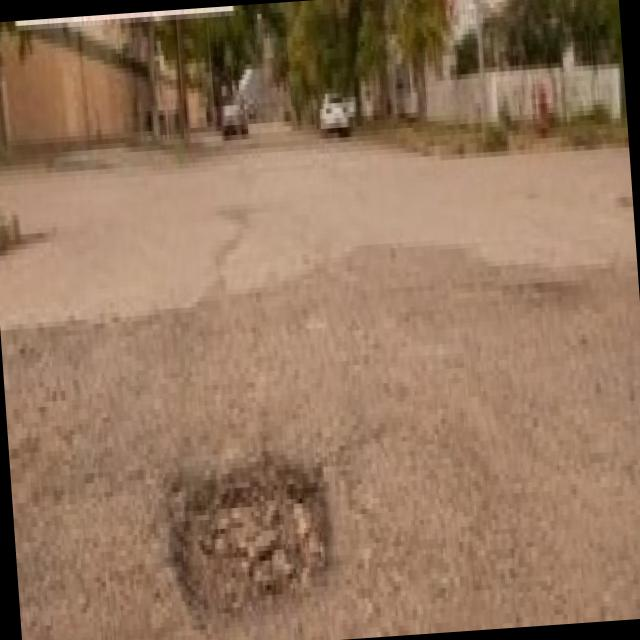Potholes: (156, 418, 354, 640)
